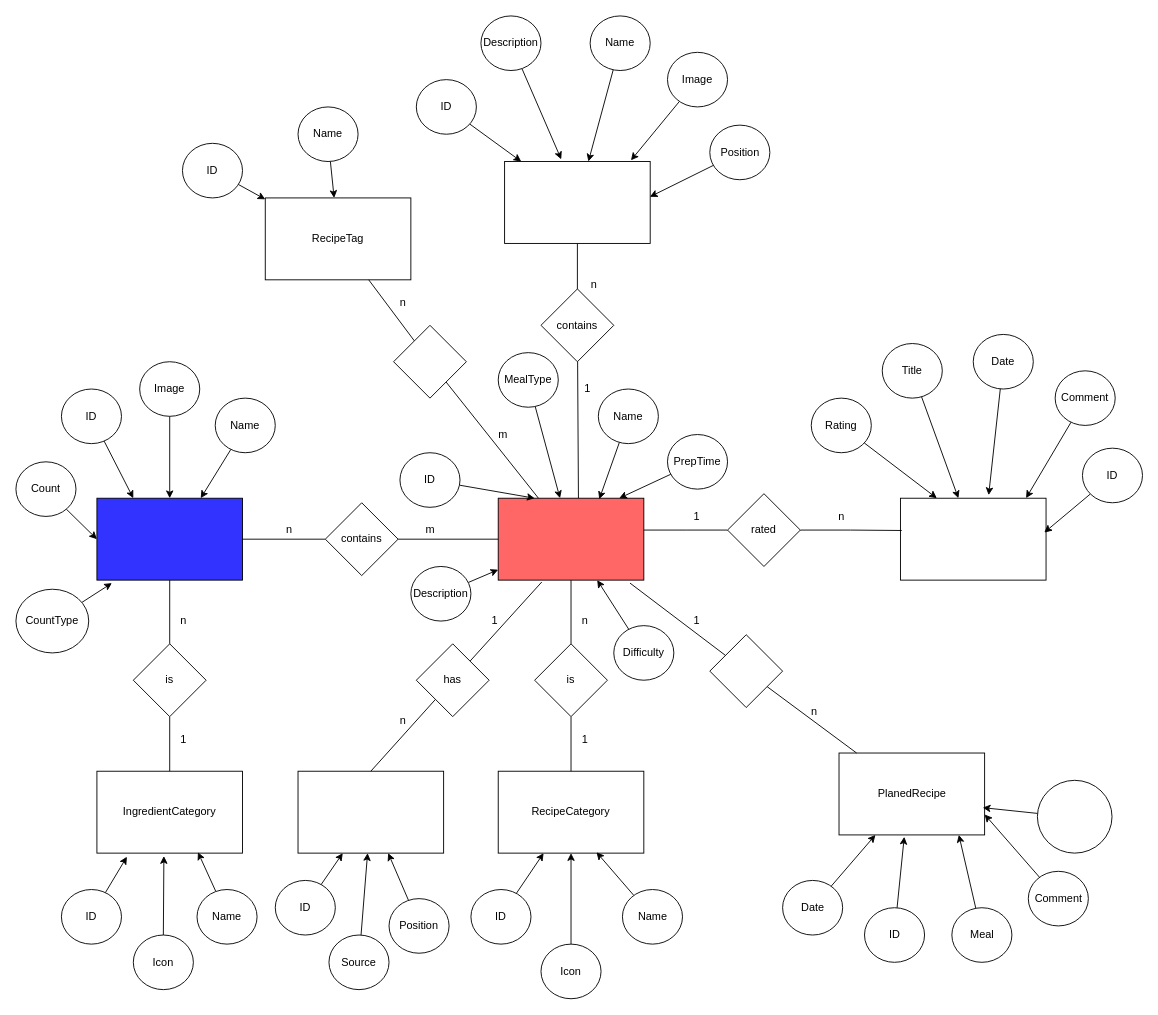
The diagram is 1158 pixels wide and 1015 high, and some of its shapes have lost their labels. The centre of each missing label's shape, as x and y in pixels:
Ingredients: (x=169, y=538)
isPlanned: (x=746, y=671)
PortionCount: (x=1074, y=816)
Recipe: (x=570, y=538)
RecipeImage: (x=370, y=811)
RecipeRating: (x=973, y=538)
RecipeSteps: (x=577, y=202)
tagged: (x=429, y=361)
